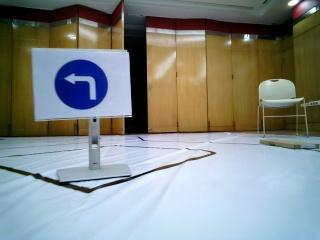left: (34, 50, 127, 114)
